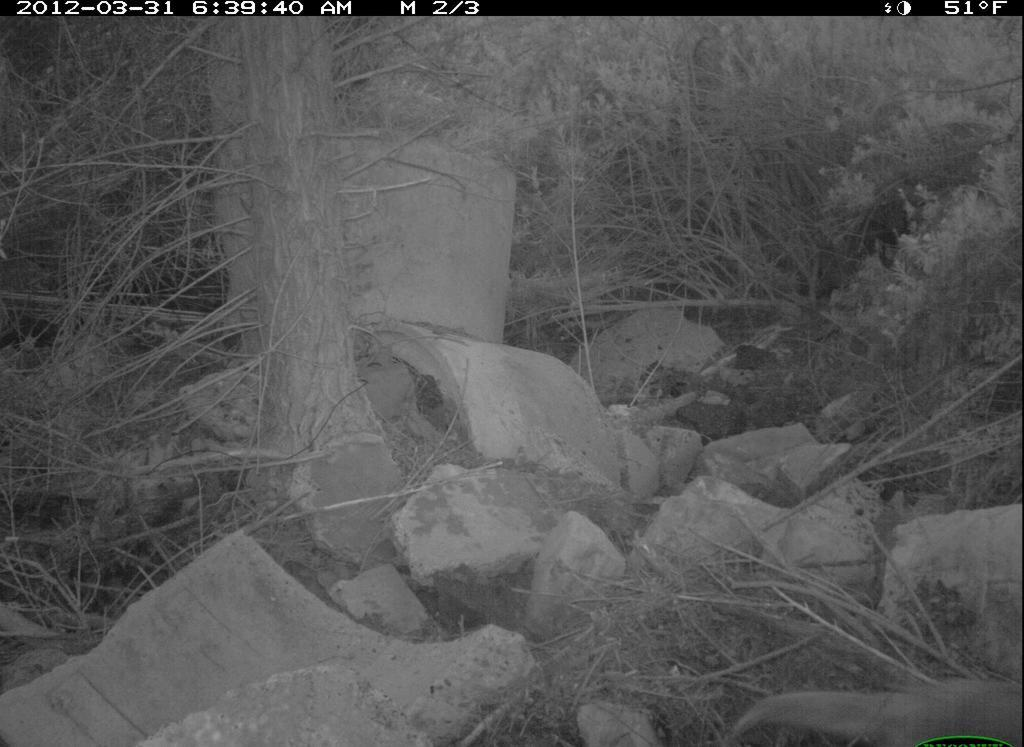coyote: (728, 672, 1022, 747)
